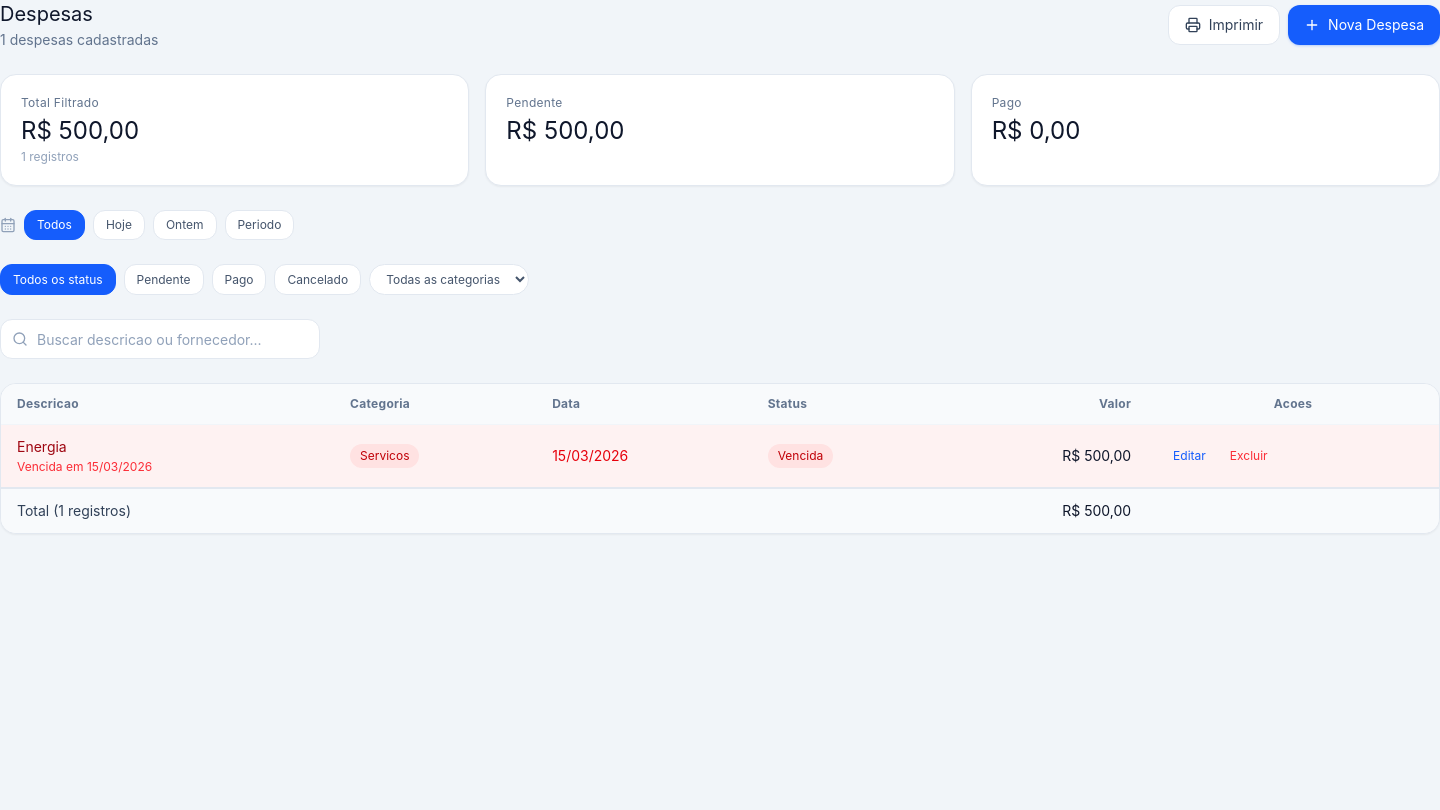
Test case: Despesas (expanded) › opens edit despesa modal
Click the button "Editar" at (1189, 456), box [1163,442,1216,470]
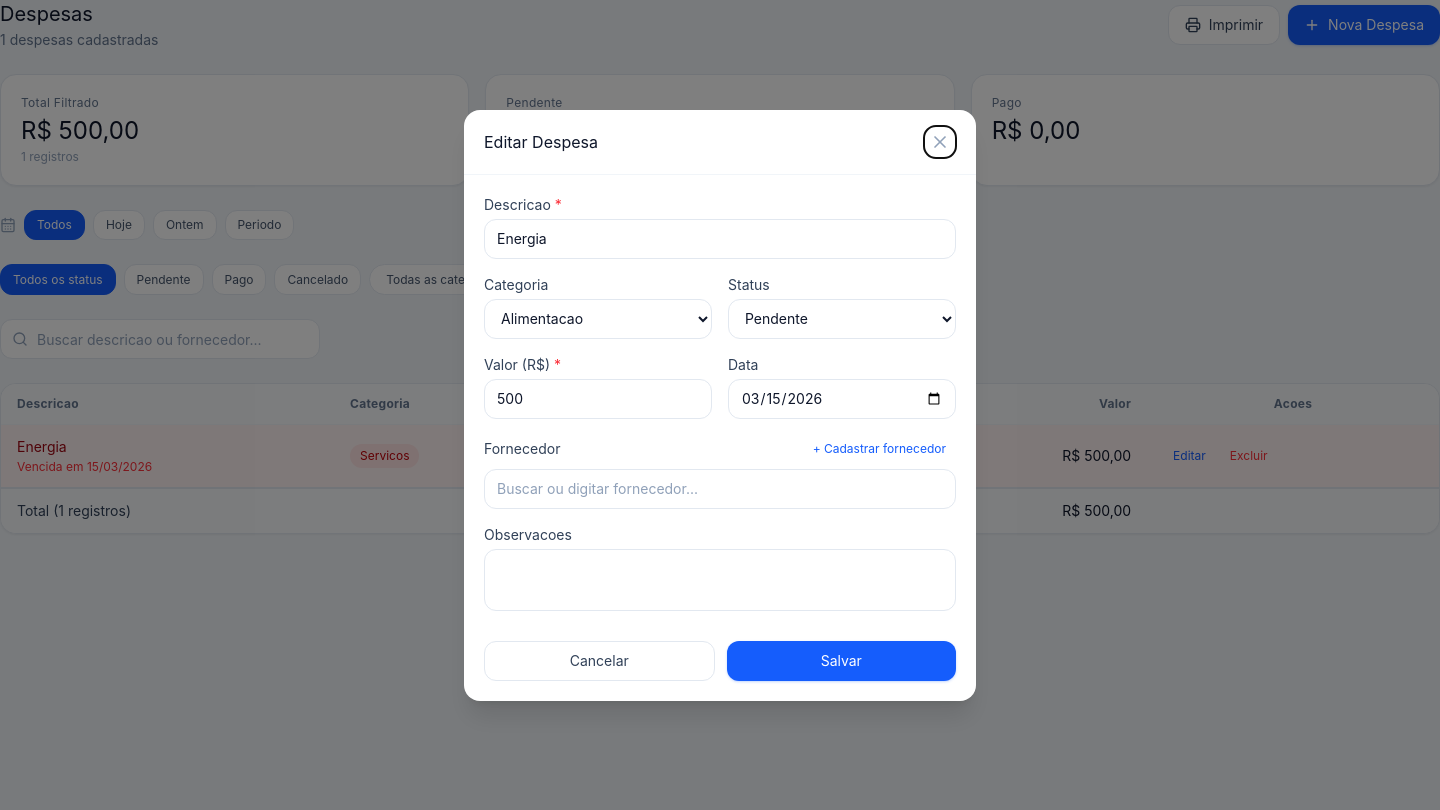
Expected: the heading "Editar Despesa" is shown, [484,130,598,154]
